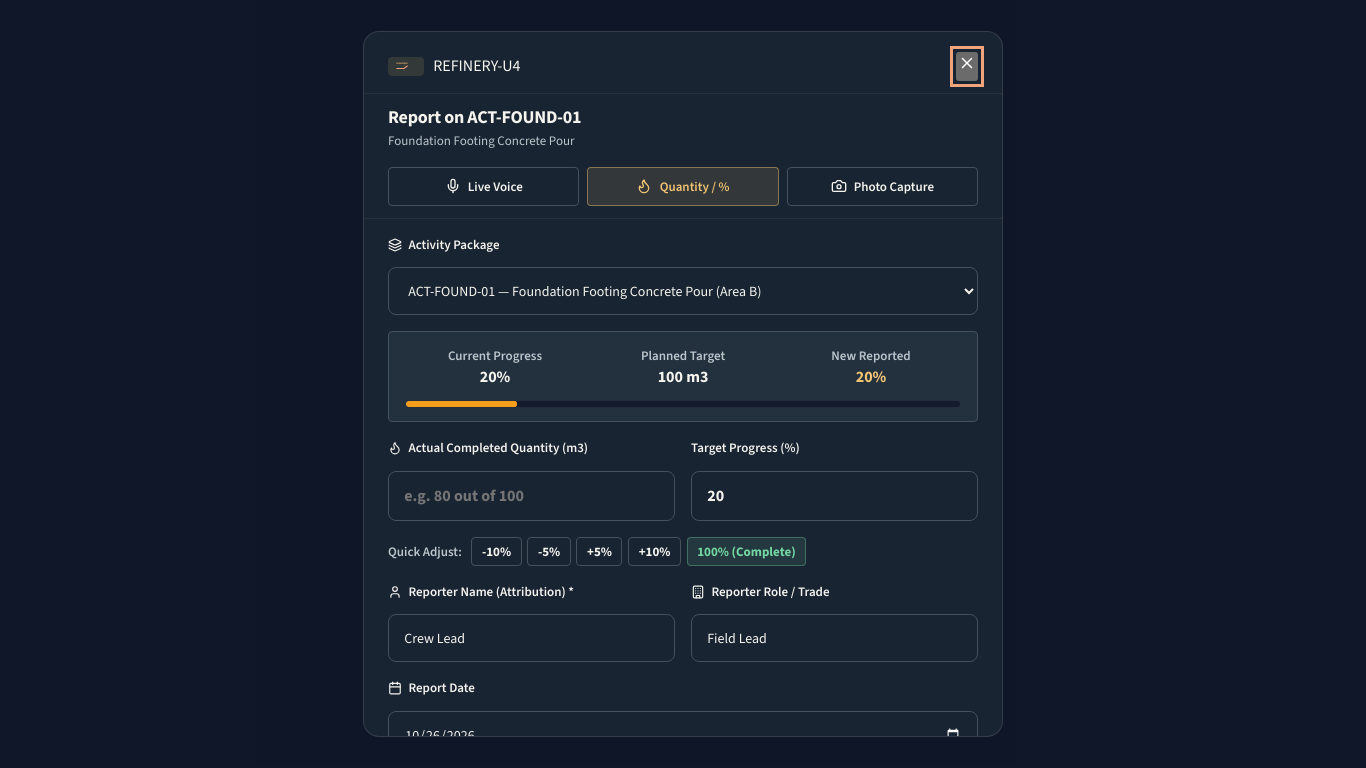
Test case: Pass 32 — WorkerReportModal Component Tests › 3. Rapid Quantity tab: calculates percentage from actual quantity and steppers adjust percent
Enter actual quantity 80 m3 out of 100 m3
Type "80" into the number field with placeholder "e.g. 80 out of 100". click: point(532, 496)
box: [388, 471, 675, 521]
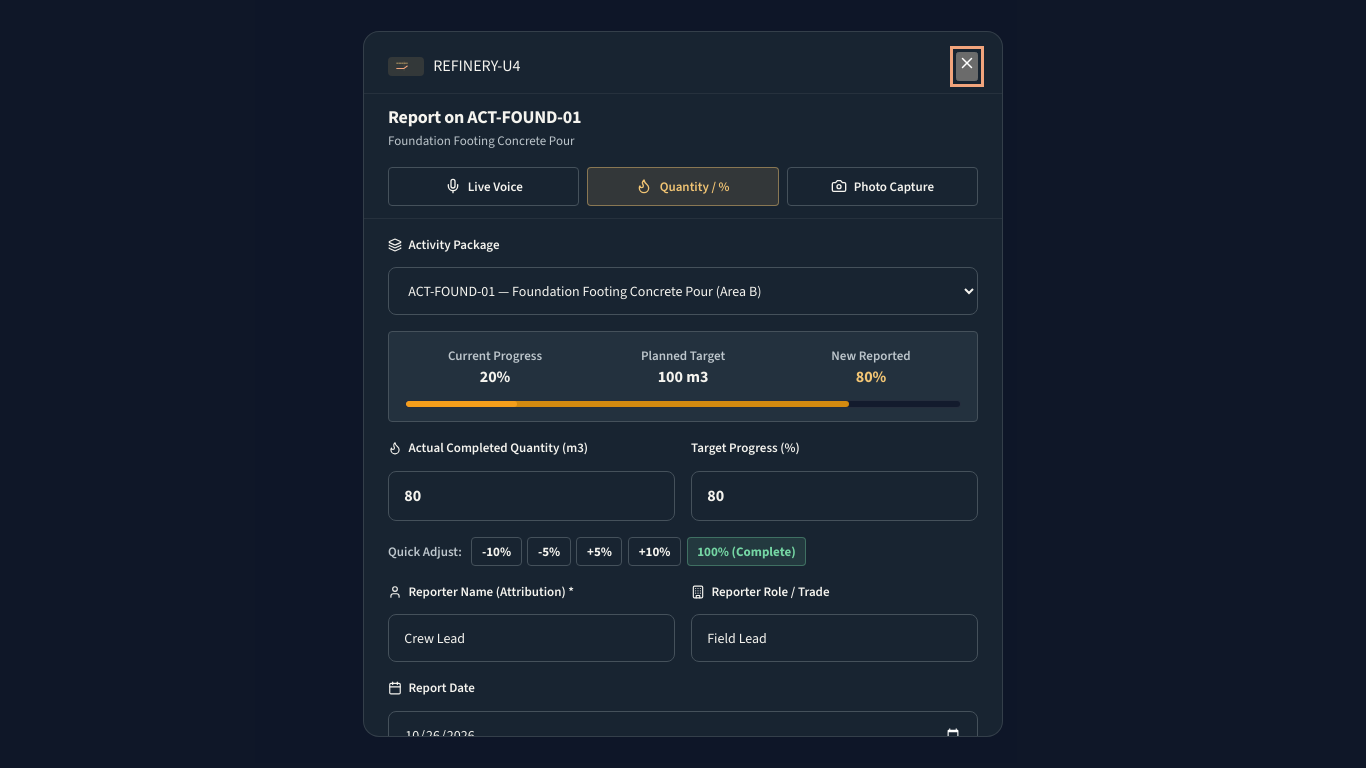
Expected: the text "80%" is shown, [856, 366, 886, 387]
Click +10% stepper button
Click the button "+10%". click: point(655, 551)
box: [628, 537, 681, 566]
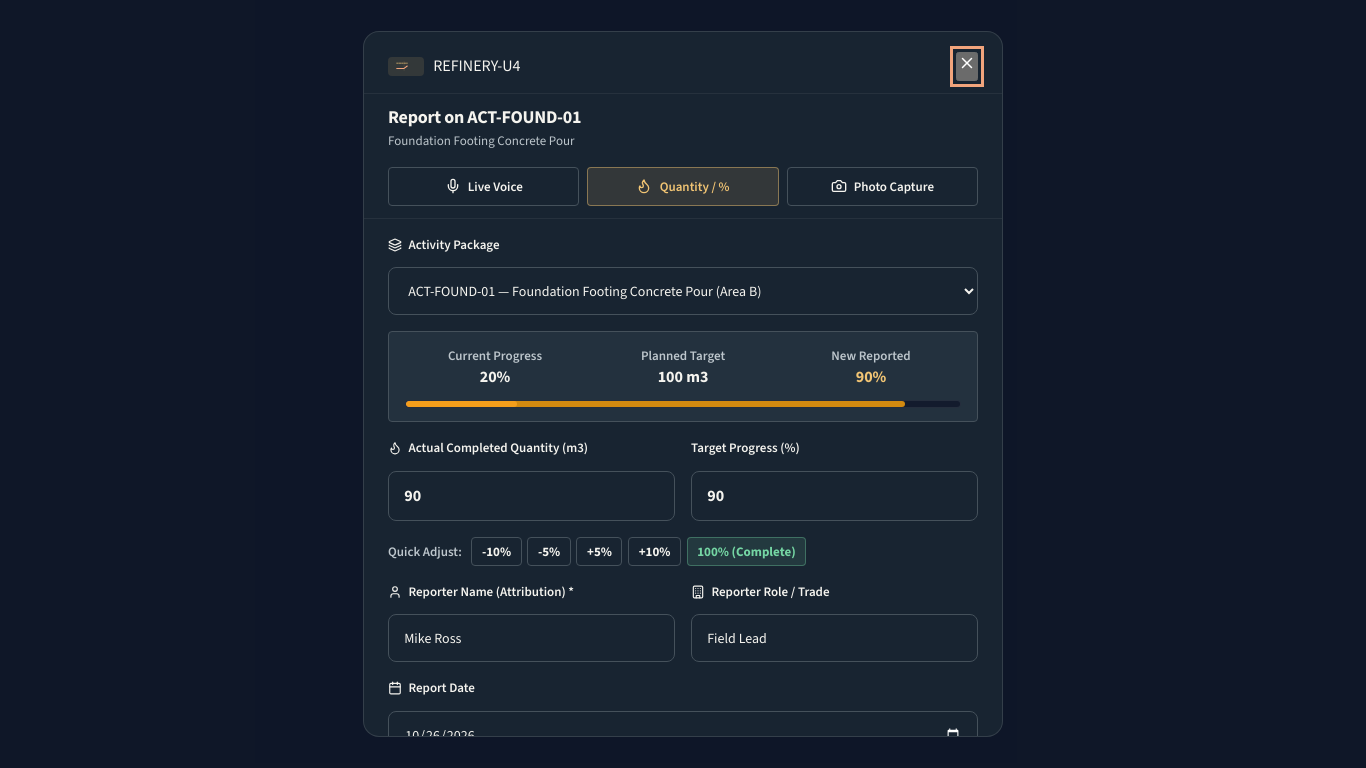
Expected: the text "90%" is shown, [856, 366, 886, 387]
